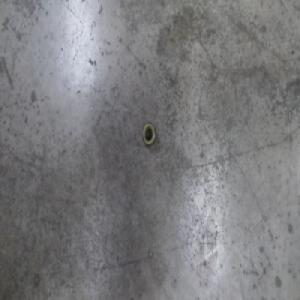Nut: (141, 120, 156, 149)
